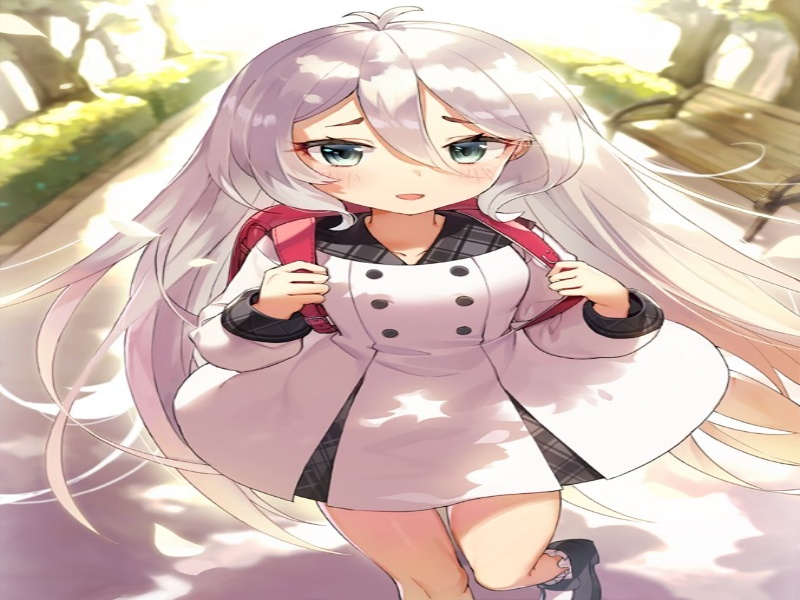dress: (194, 215, 736, 522)
person: (174, 19, 586, 230)
